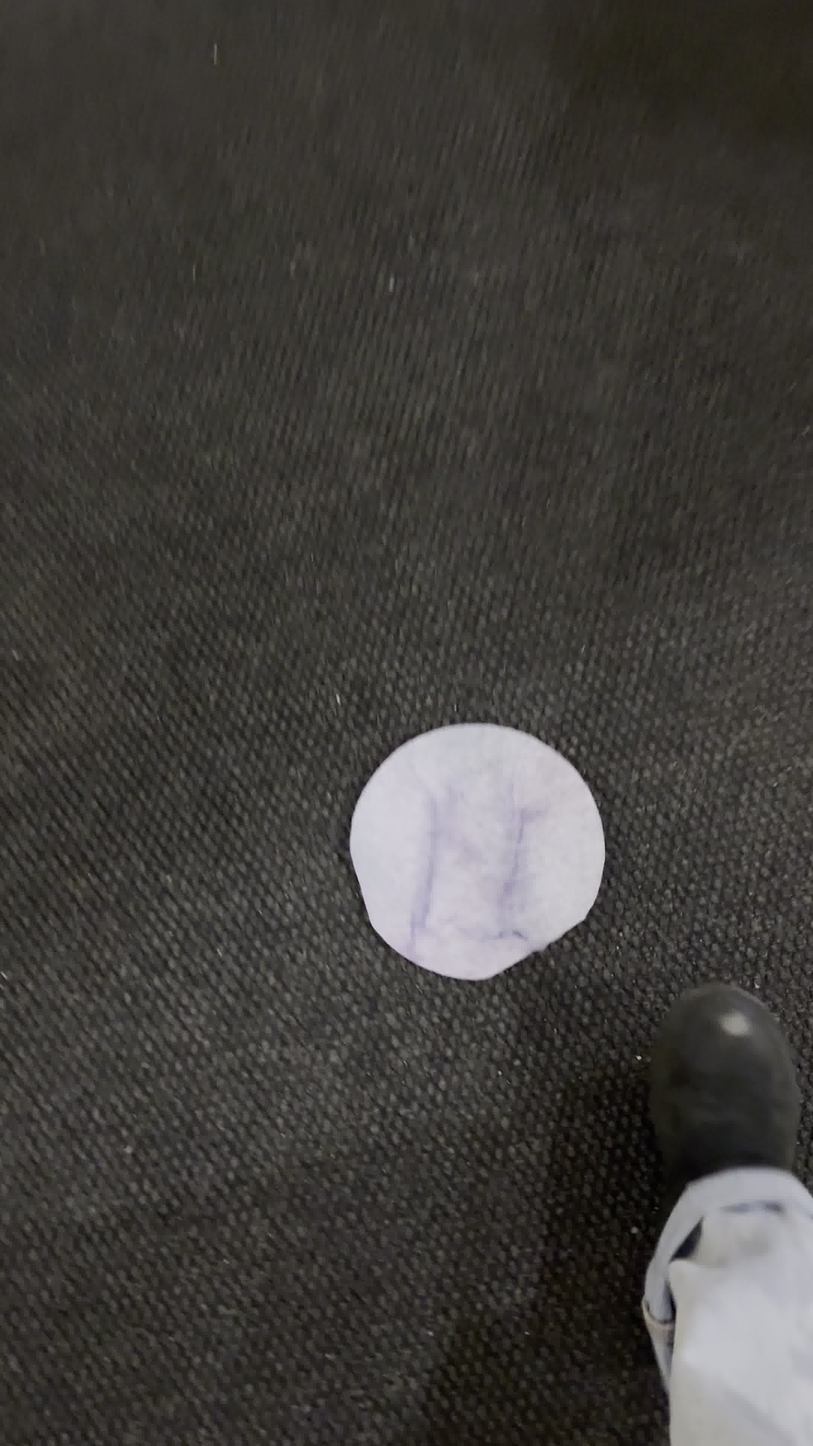Target: (346, 722, 614, 987)
